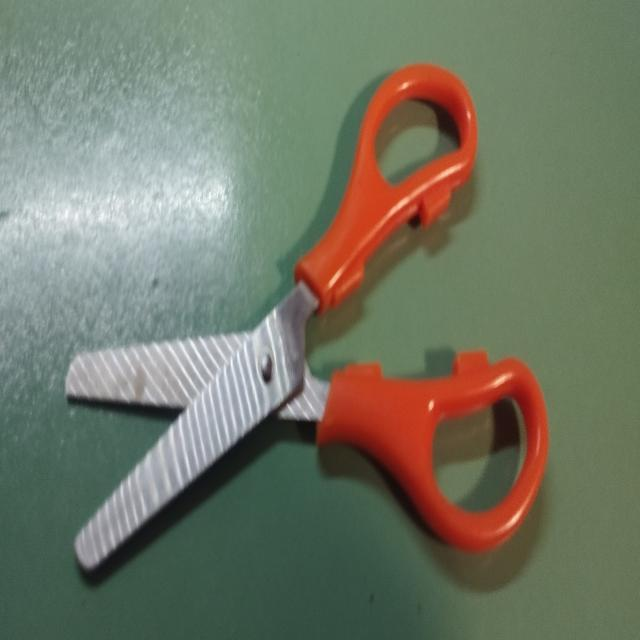tesoura: (62, 61, 552, 578)
